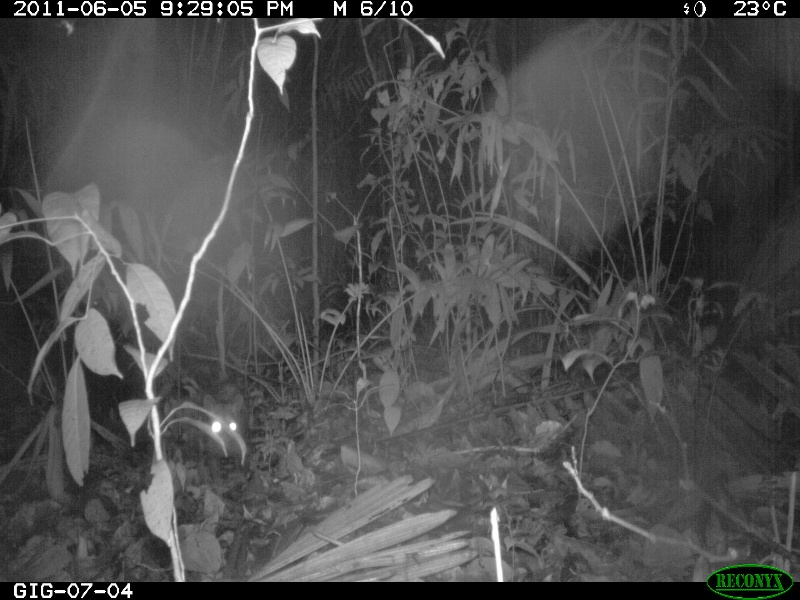opossum: (199, 380, 252, 455)
